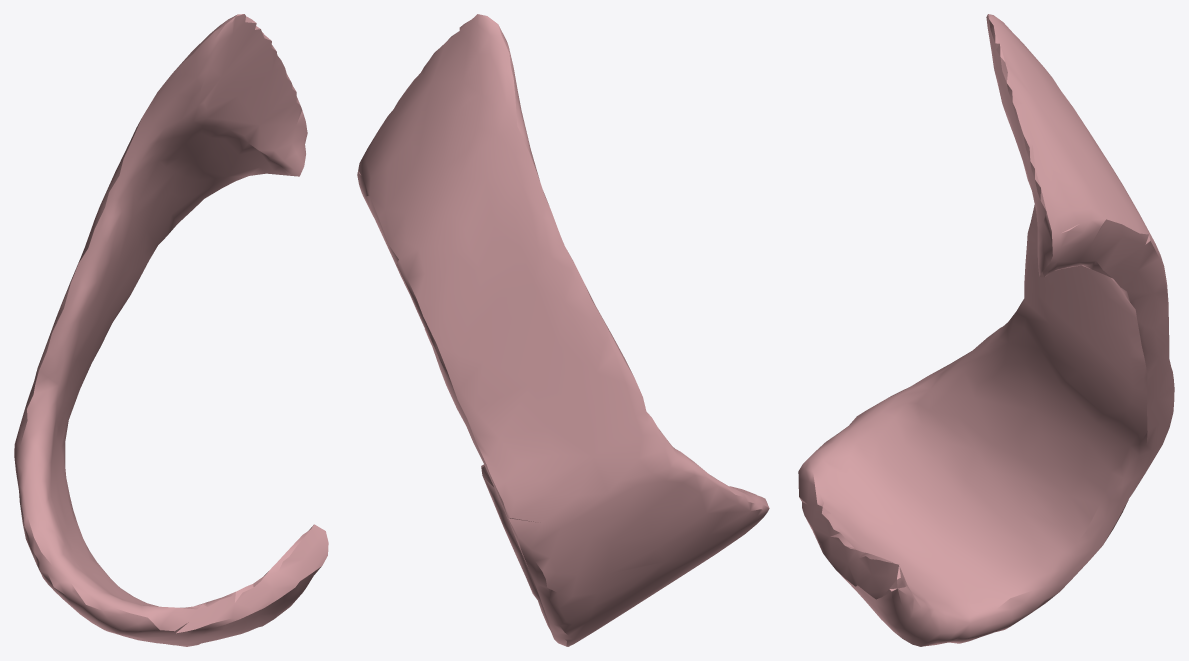
File: fma9242_mm562.glb
The picture shows the model from 3 angles, left to right: view 1: azimuth 30°, elevation 25°; view 2: azimuth 150°, elevation 25°; view 3: azimuth 270°, elevation 25°; orthographic projection. The views are drawn at different scales.
Parts seen in each view (by area): view 1: FMA9242_MM562; view 2: FMA9242_MM562; view 3: FMA9242_MM562.
Part boxes in pixels (box(x1,y1,x2,y2)): FMA9242_MM562: box(14, 14, 328, 646); FMA9242_MM562: box(357, 14, 769, 646); FMA9242_MM562: box(798, 14, 1174, 646).
Bounding box in the file's own units: 0.00865 × 0.0149 × 0.00767.
